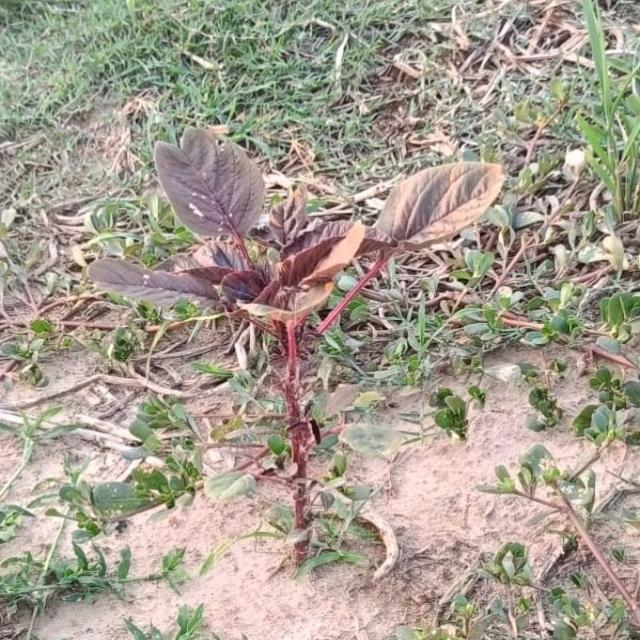plant: (88, 129, 503, 532)
